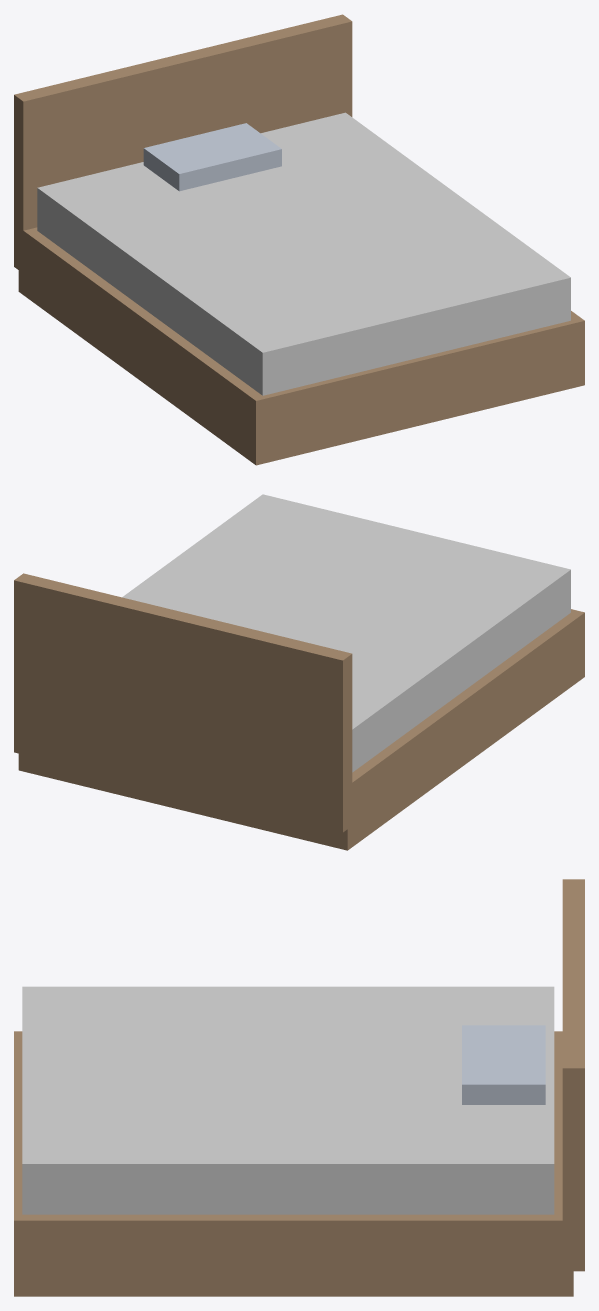
File: bed.glb
3 views of the same model, one above another, from view 1: azimuth 30°, elevation 25°; view 2: azimuth 150°, elevation 25°; view 3: azimuth 270°, elevation 25° (orthographic). The views are drawn at different scales.
Parts seen in each view (by area): view 1: geometry_1, geometry_0, geometry_2, geometry_3; view 2: geometry_2, geometry_1, geometry_0; view 3: geometry_1, geometry_0, geometry_2, geometry_3.
Part boxes in pixels (box(x1,y1,x2,y2)): geometry_1: box(37, 112, 570, 395); geometry_0: box(18, 227, 584, 465); geometry_2: box(14, 14, 352, 273); geometry_3: box(143, 123, 281, 191); geometry_2: box(14, 573, 352, 832); geometry_1: box(122, 494, 570, 772); geometry_0: box(18, 609, 584, 850); geometry_1: box(22, 986, 554, 1214); geometry_0: box(14, 1031, 573, 1296); geometry_2: box(562, 879, 584, 1271); geometry_3: box(462, 1025, 545, 1104).
Size of the model in its own units: 1.6 by 0.9 by 2.04.
